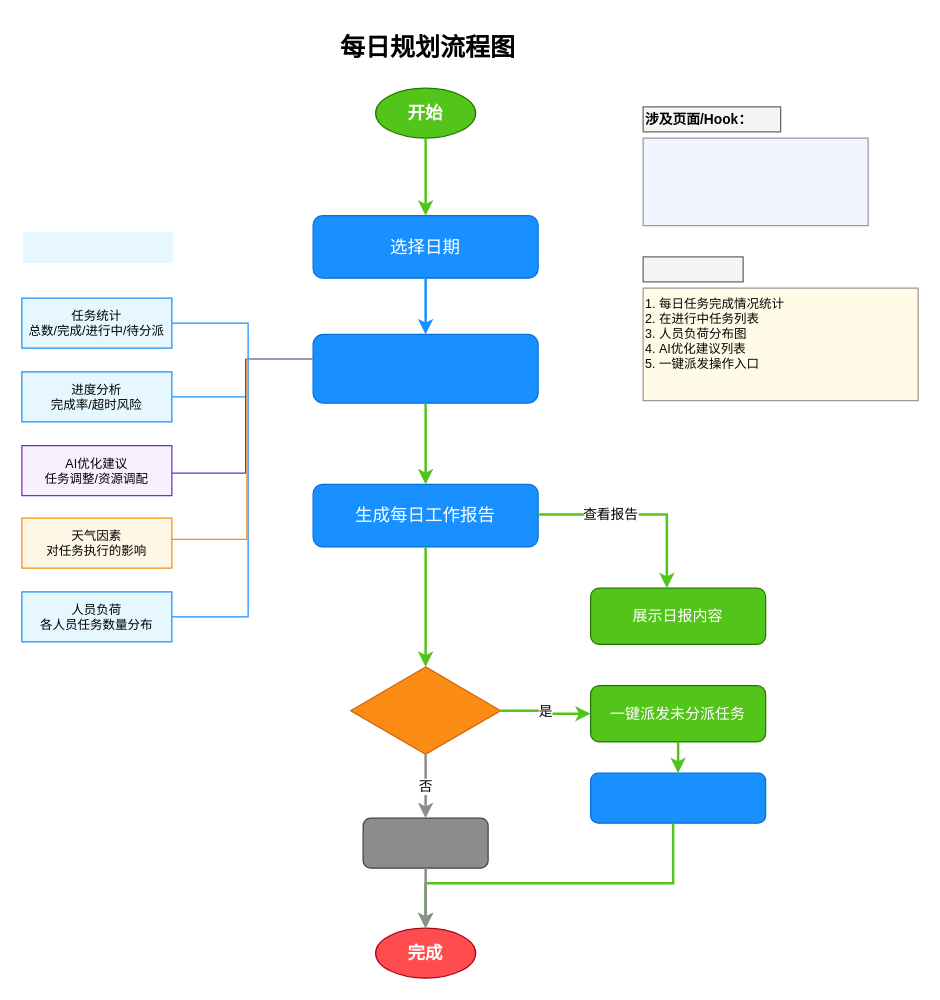
The diagram is 940 pixels wide and 1000 high, and some of its shapes have lost their labels. Here are the shapes that lost their labels. From the top down, the centre of each, then its label:
At (x=755, y=181): "DailyPlanningPage useDailyWorkOrderAnalysis useTasks useAIOptimization".
At (x=97, y=246): "分析内容".
At (x=692, y=269): "输出内容：".
At (x=425, y=368): "调用useDailyWorkOrderAnalysis 分析该日工单数据".
At (x=425, y=710): "有待处理任务？".
At (x=677, y=797): "发送派工通知".
At (x=425, y=842): "无需处理".
